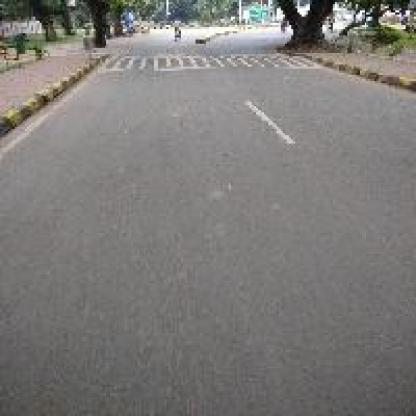Speed Bump: (102, 52, 308, 71)
